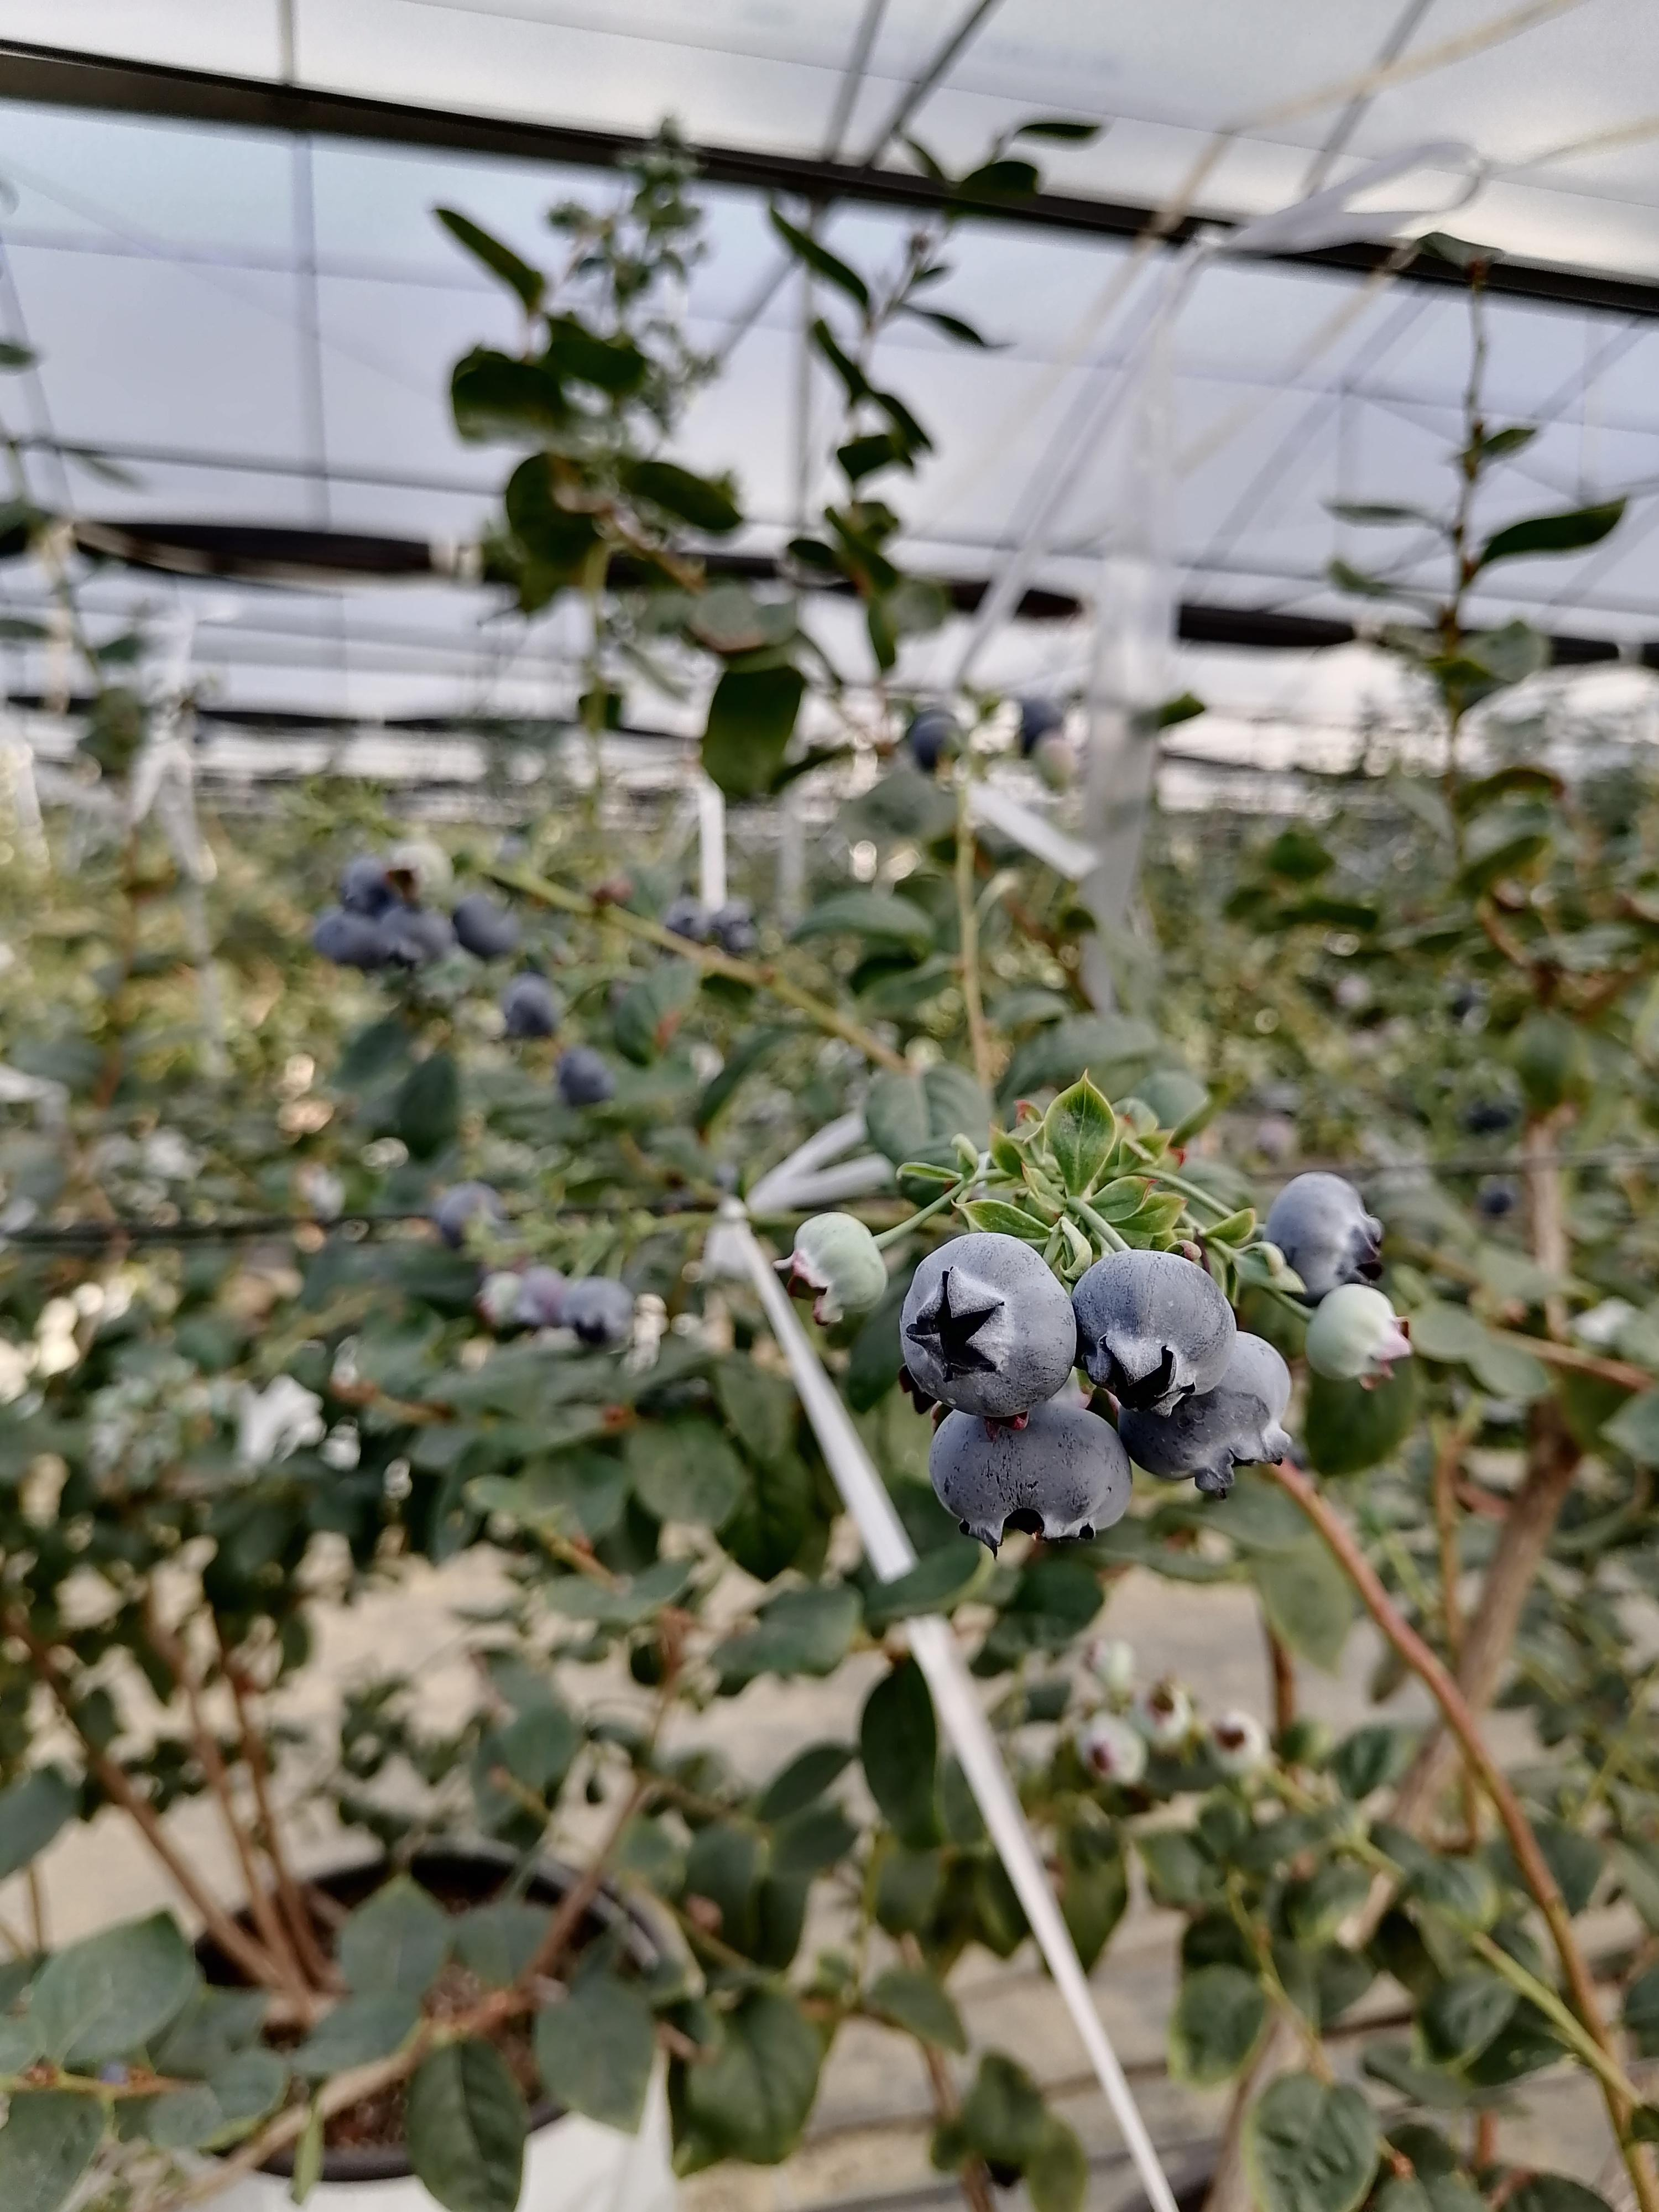ripe-blueberries: (897, 1231, 1079, 1421), (927, 1402, 1134, 1562), (1119, 1332, 1293, 1508), (1072, 1249, 1239, 1418), (1267, 1174, 1387, 1308), (561, 1277, 640, 1359), (378, 902, 455, 972), (455, 895, 521, 965), (436, 1186, 504, 1252), (310, 914, 382, 970), (505, 977, 563, 1042), (559, 1045, 620, 1103), (911, 712, 969, 770), (338, 859, 396, 914), (666, 900, 709, 941), (720, 900, 748, 934), (728, 927, 760, 953)
